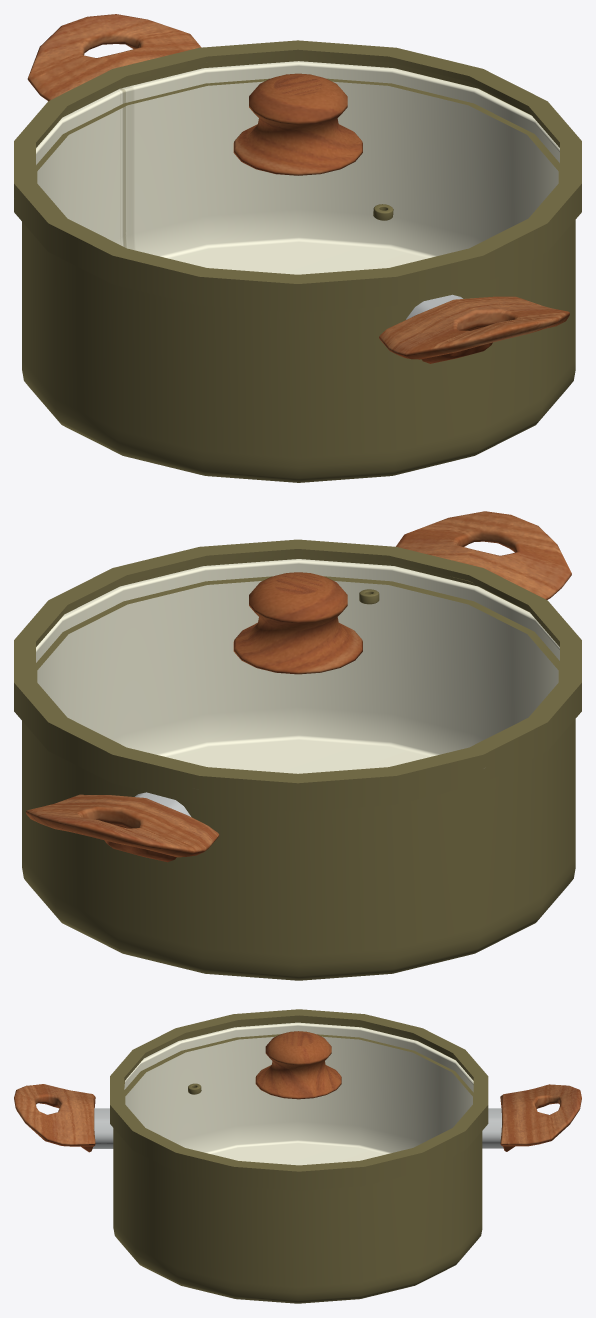
Rendered from olla.glb.
3 renders of one model, top to bottom at view 1: azimuth 30°, elevation 25°; view 2: azimuth 150°, elevation 25°; view 3: azimuth 270°, elevation 25°, orthographic. The views are drawn at different scales.
Visible parts, largest first — view 1: olla; view 2: olla; view 3: olla.
Part boxes in pixels (left/top/right/bottom): olla: left=14, top=14, right=581, bottom=482; olla: left=14, top=511, right=581, bottom=980; olla: left=14, top=1009, right=581, bottom=1303.
Size of the model in its own units: 0.0067 by 0.00365 by 0.00991.
Materials: 1 (1 with a texture image).
